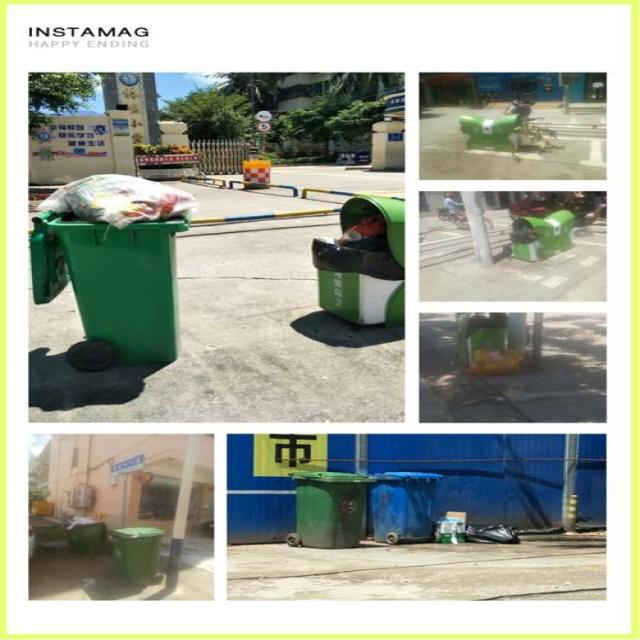garbage: (434, 511, 523, 542)
garbage_bin: (287, 469, 376, 547), (364, 470, 442, 542), (110, 528, 160, 586)
overflow: (29, 172, 194, 362), (308, 212, 404, 322), (67, 514, 101, 554)
